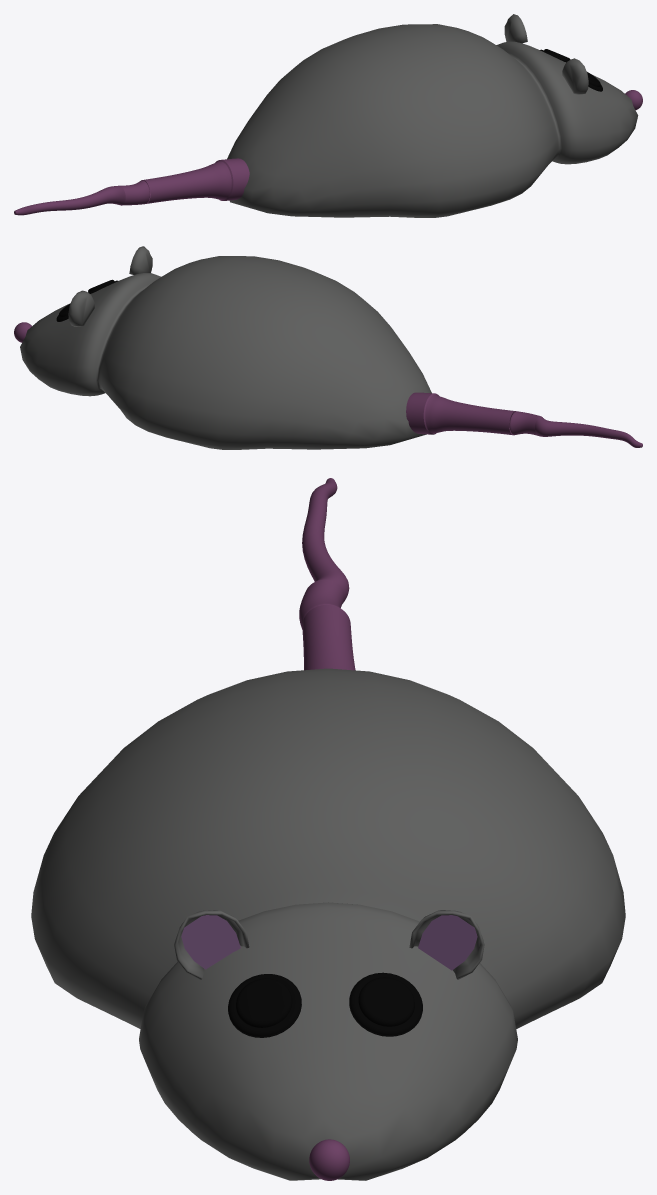
Rendered from ratontext.fbx.
3 views of the same model, one above another, from view 1: azimuth 30°, elevation 25°; view 2: azimuth 150°, elevation 25°; view 3: azimuth 270°, elevation 25° (orthographic). The views are drawn at different scales.
Visible parts, largest first — view 1: cuerpo, colaNariz, oreja, Ojos; view 2: cuerpo, colaNariz, oreja; view 3: cuerpo, colaNariz, Ojos, orejaInterna, oreja.
Boxes of the visible parts, bbox=[...] form: cuerpo: bbox=[227, 24, 638, 217]; colaNariz: bbox=[14, 90, 642, 215]; oreja: bbox=[504, 14, 588, 94]; Ojos: bbox=[540, 49, 602, 91]; cuerpo: bbox=[20, 256, 431, 449]; colaNariz: bbox=[14, 322, 642, 447]; oreja: bbox=[68, 246, 152, 326]; cuerpo: bbox=[31, 668, 625, 1180]; colaNariz: bbox=[299, 478, 355, 1180]; Ojos: bbox=[228, 972, 422, 1037]; orejaInterna: bbox=[181, 915, 477, 970]; oreja: bbox=[174, 910, 484, 979].
Size of the model in its own units: 390 by 82.86 by 160.
